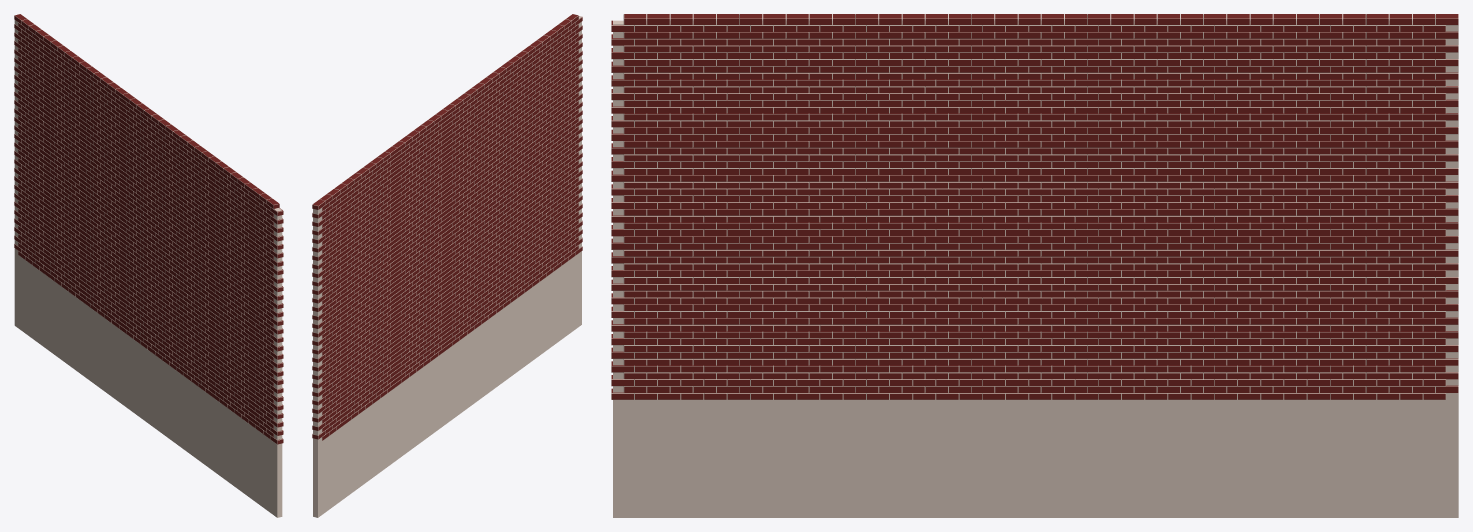
Rendered from Mur_complet.fbx.
3 views of the same model, side by side, from view 1: azimuth 30°, elevation 25°; view 2: azimuth 150°, elevation 25°; view 3: azimuth 270°, elevation 25° (orthographic). The views are drawn at different scales.
Visible parts, largest first — view 1: Mur_Brique, Mur_Plain; view 2: Mur_Brique, Mur_Plain; view 3: Mur_Brique, Mur_Plain.
Part boxes in pixels (x1,y1,x2,y2): Mur_Brique: (14,14,283,444); Mur_Plain: (14,20,282,517); Mur_Brique: (312,14,582,440); Mur_Plain: (313,16,581,517); Mur_Brique: (611,14,1458,399); Mur_Plain: (613,20,1458,517).
Bounding box in the file's own units: 25.51 × 1217 × 1869.
